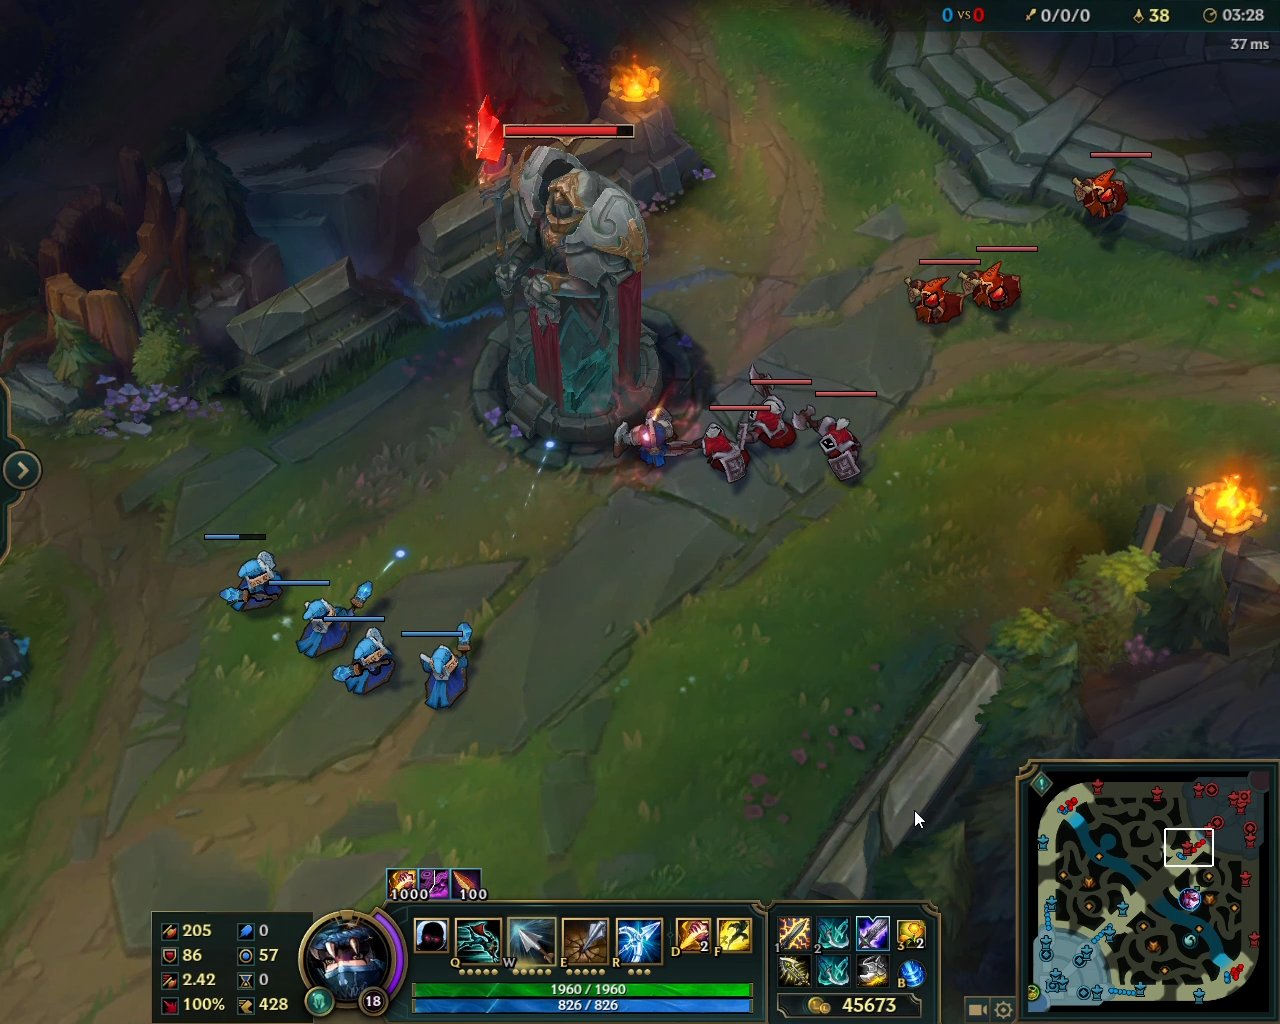EnemyMinion: (664, 406, 767, 492), (787, 391, 878, 485), (738, 363, 814, 452), (956, 242, 1042, 318), (1070, 152, 1154, 226), (899, 256, 982, 328)
Tower: (468, 82, 678, 447)
